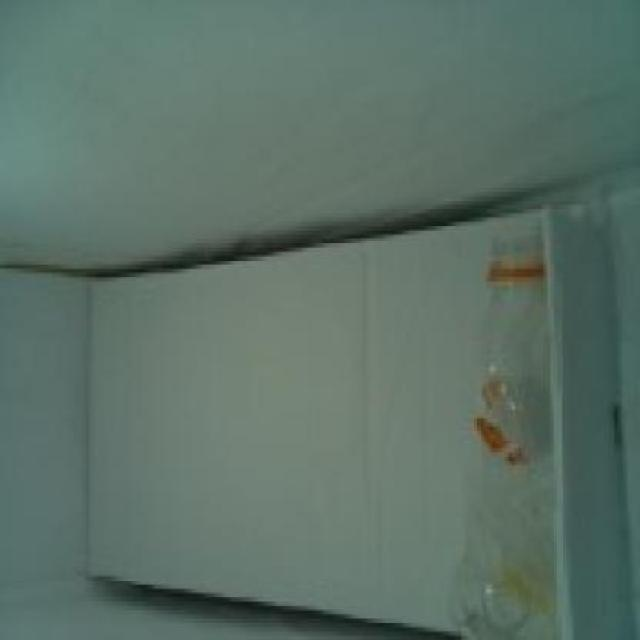Pet_Bottle: (450, 207, 557, 640)
